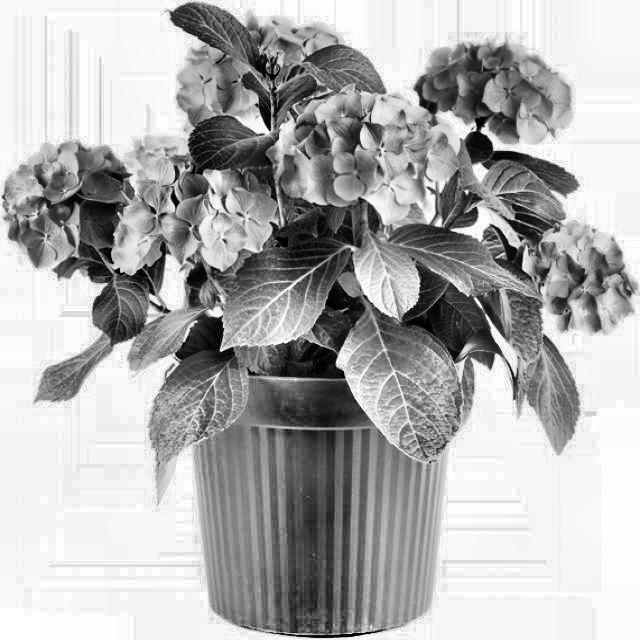plants: (66, 31, 567, 634)
